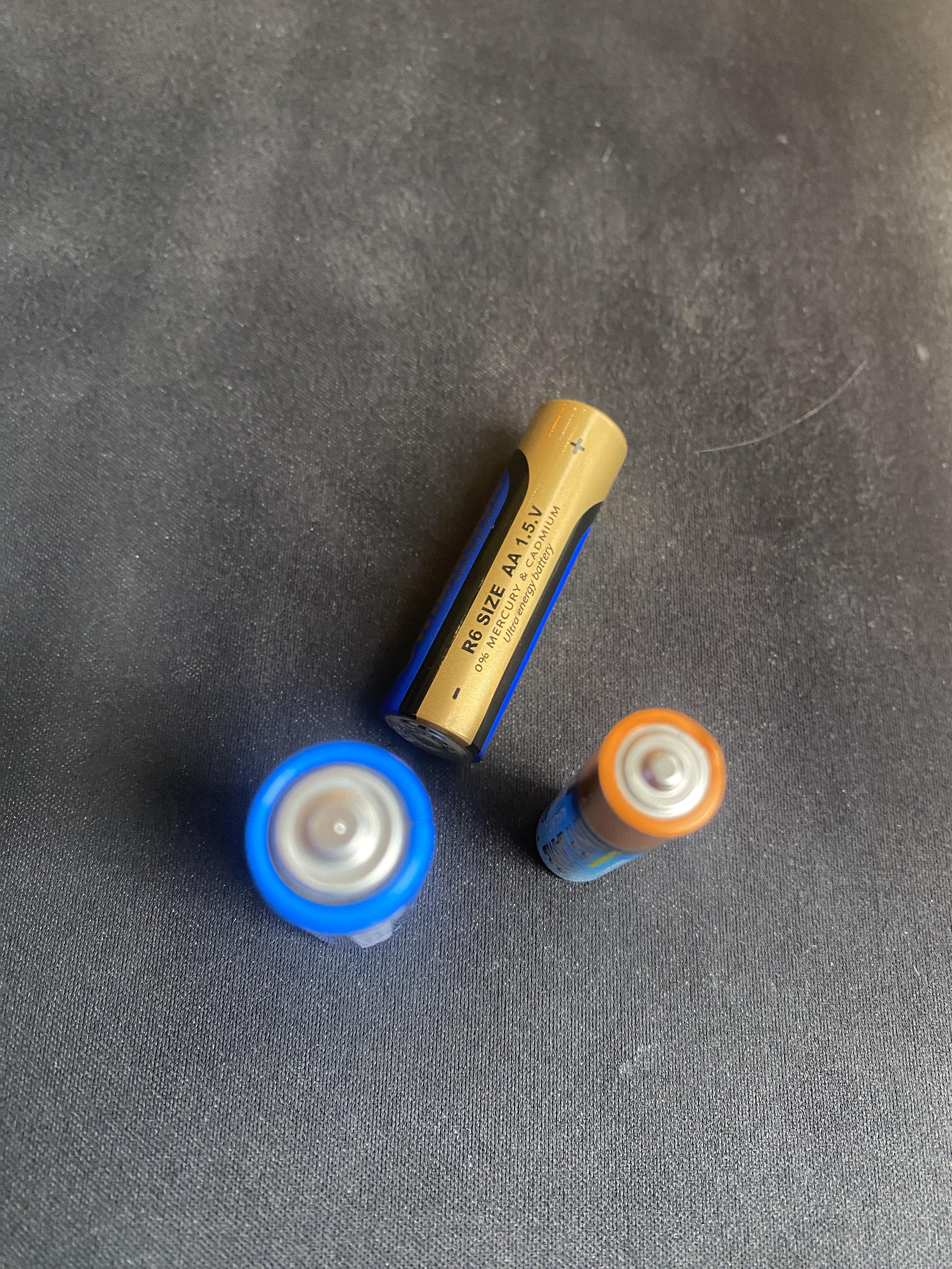AA: (380, 395, 628, 764), (208, 696, 463, 1010)
AAA: (534, 705, 727, 883)
